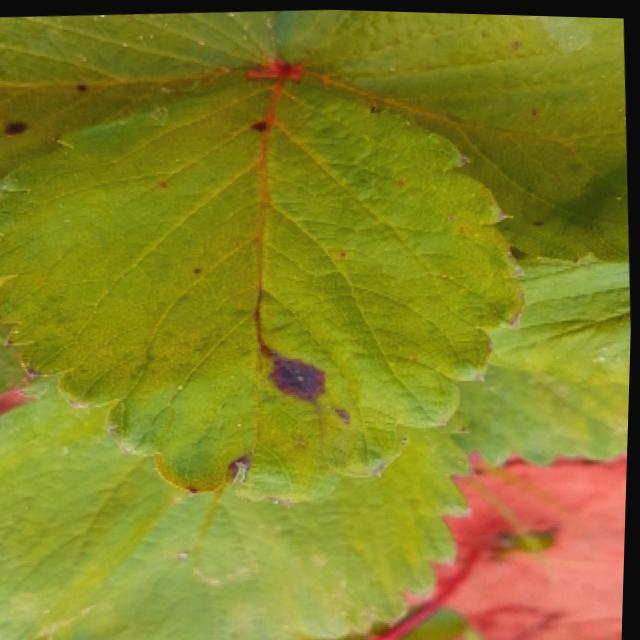Leaf Spot: (0, 67, 528, 504), (280, 7, 631, 260), (0, 8, 289, 172), (448, 250, 633, 472)
